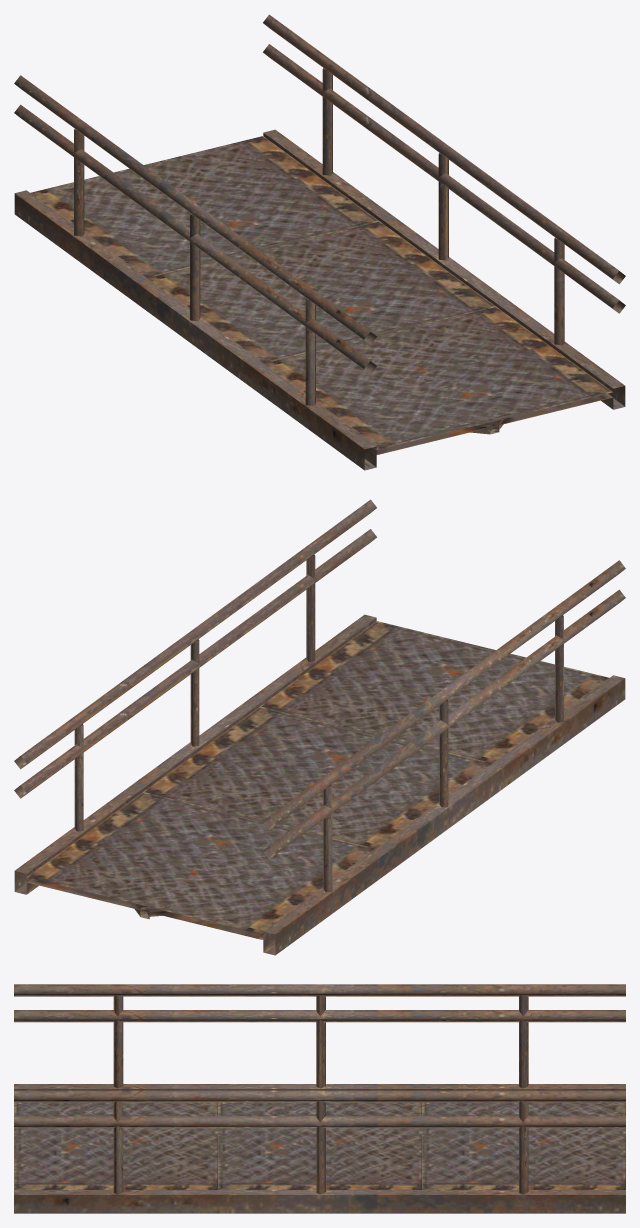
Rendered from Bridge2.fbx.
The picture shows the model from 3 angles, top to bottom: view 1: azimuth 30°, elevation 25°; view 2: azimuth 150°, elevation 25°; view 3: azimuth 270°, elevation 25°; orthographic projection. The views are drawn at different scales.
Parts seen in each view (by area): view 1: Bridge2; view 2: Bridge2; view 3: Bridge2.
Part boxes in pixels (left/top/right/bottom): Bridge2: left=14, top=14, right=625, bottom=470; Bridge2: left=14, top=499, right=625, bottom=955; Bridge2: left=14, top=984, right=625, bottom=1213.
Size of the model in its own units: 210 by 105 by 485.
